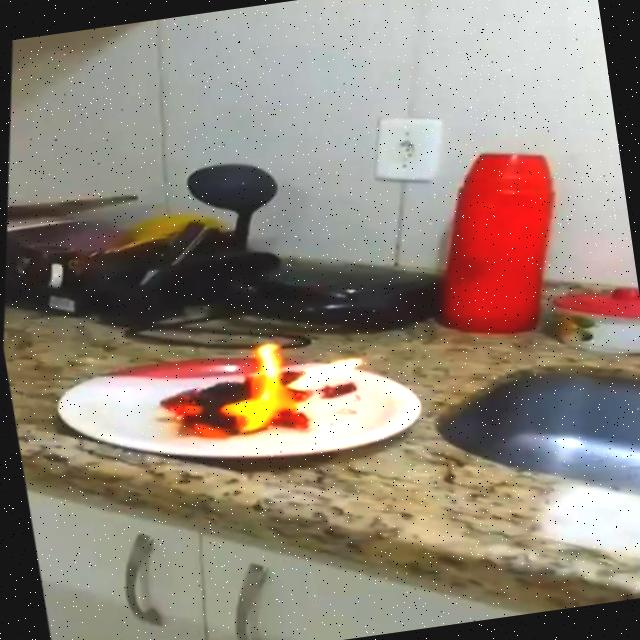fire: (134, 303, 382, 480)
